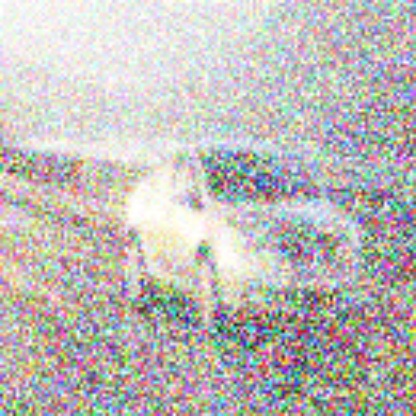Vehicle: (126, 139, 366, 340)
